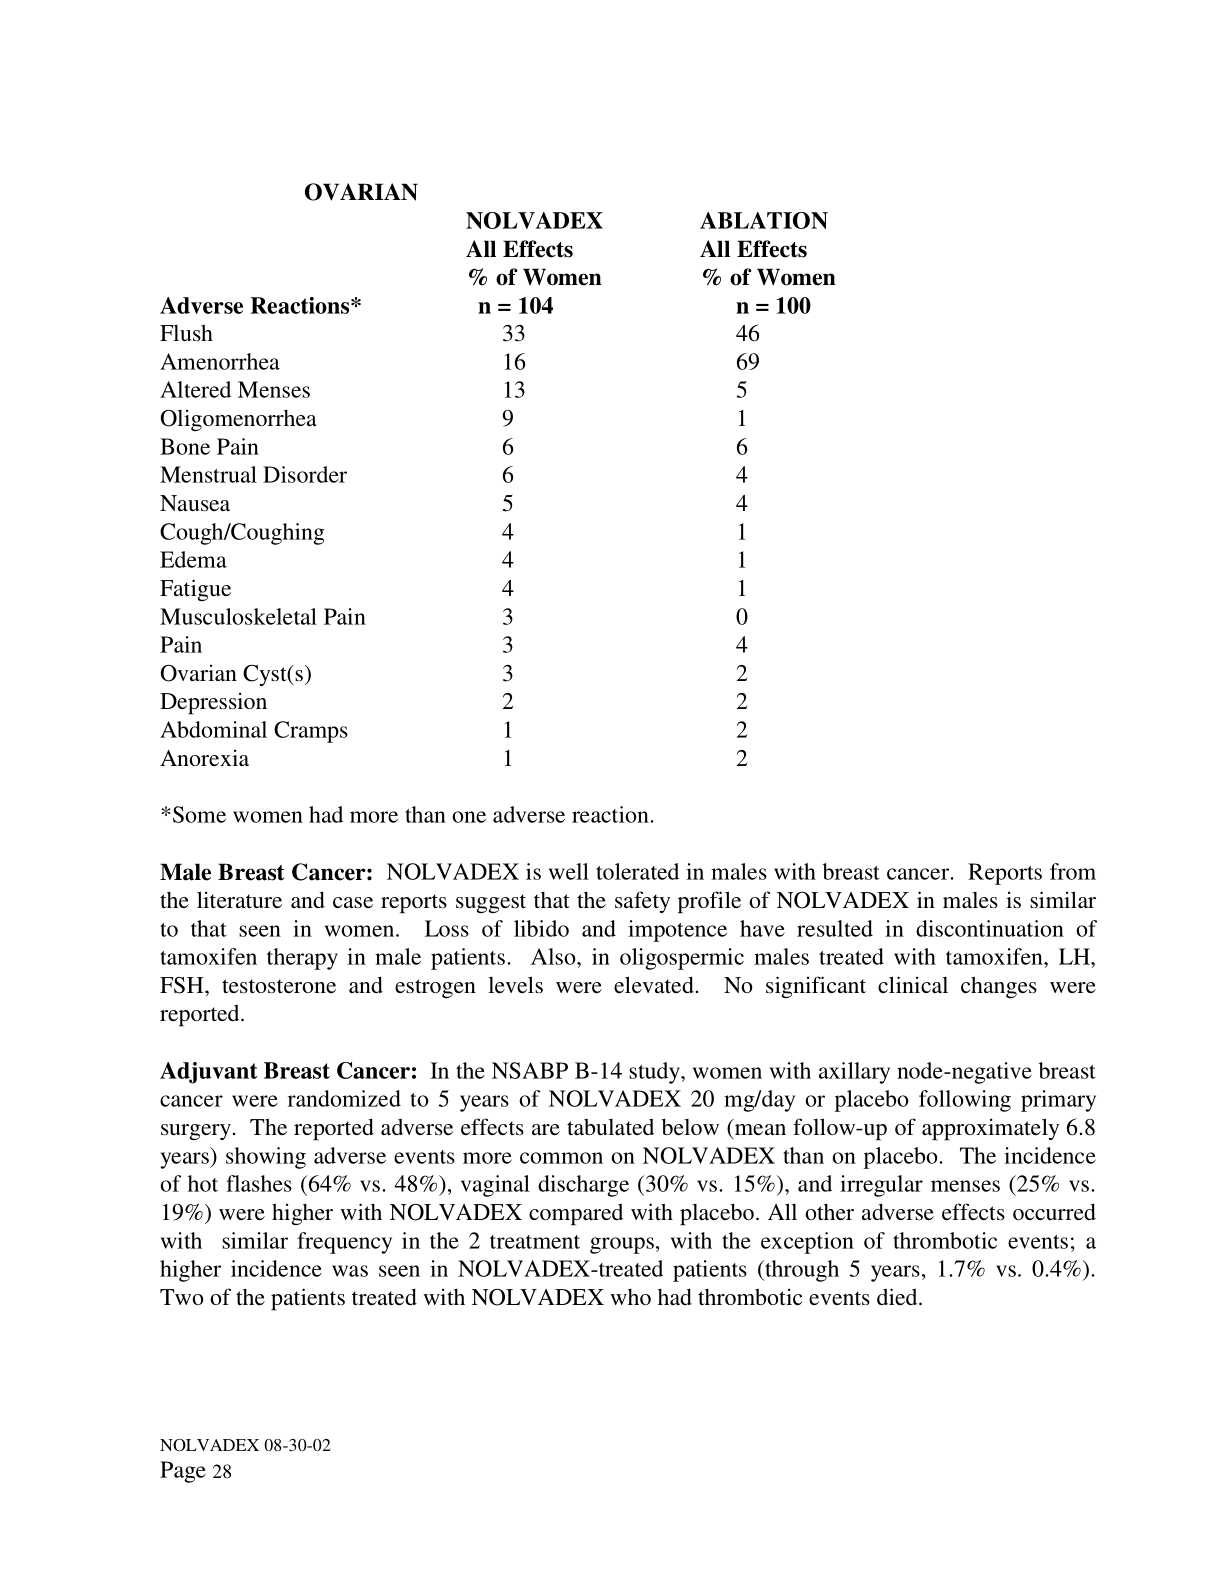nolines: (156, 206, 838, 773)
